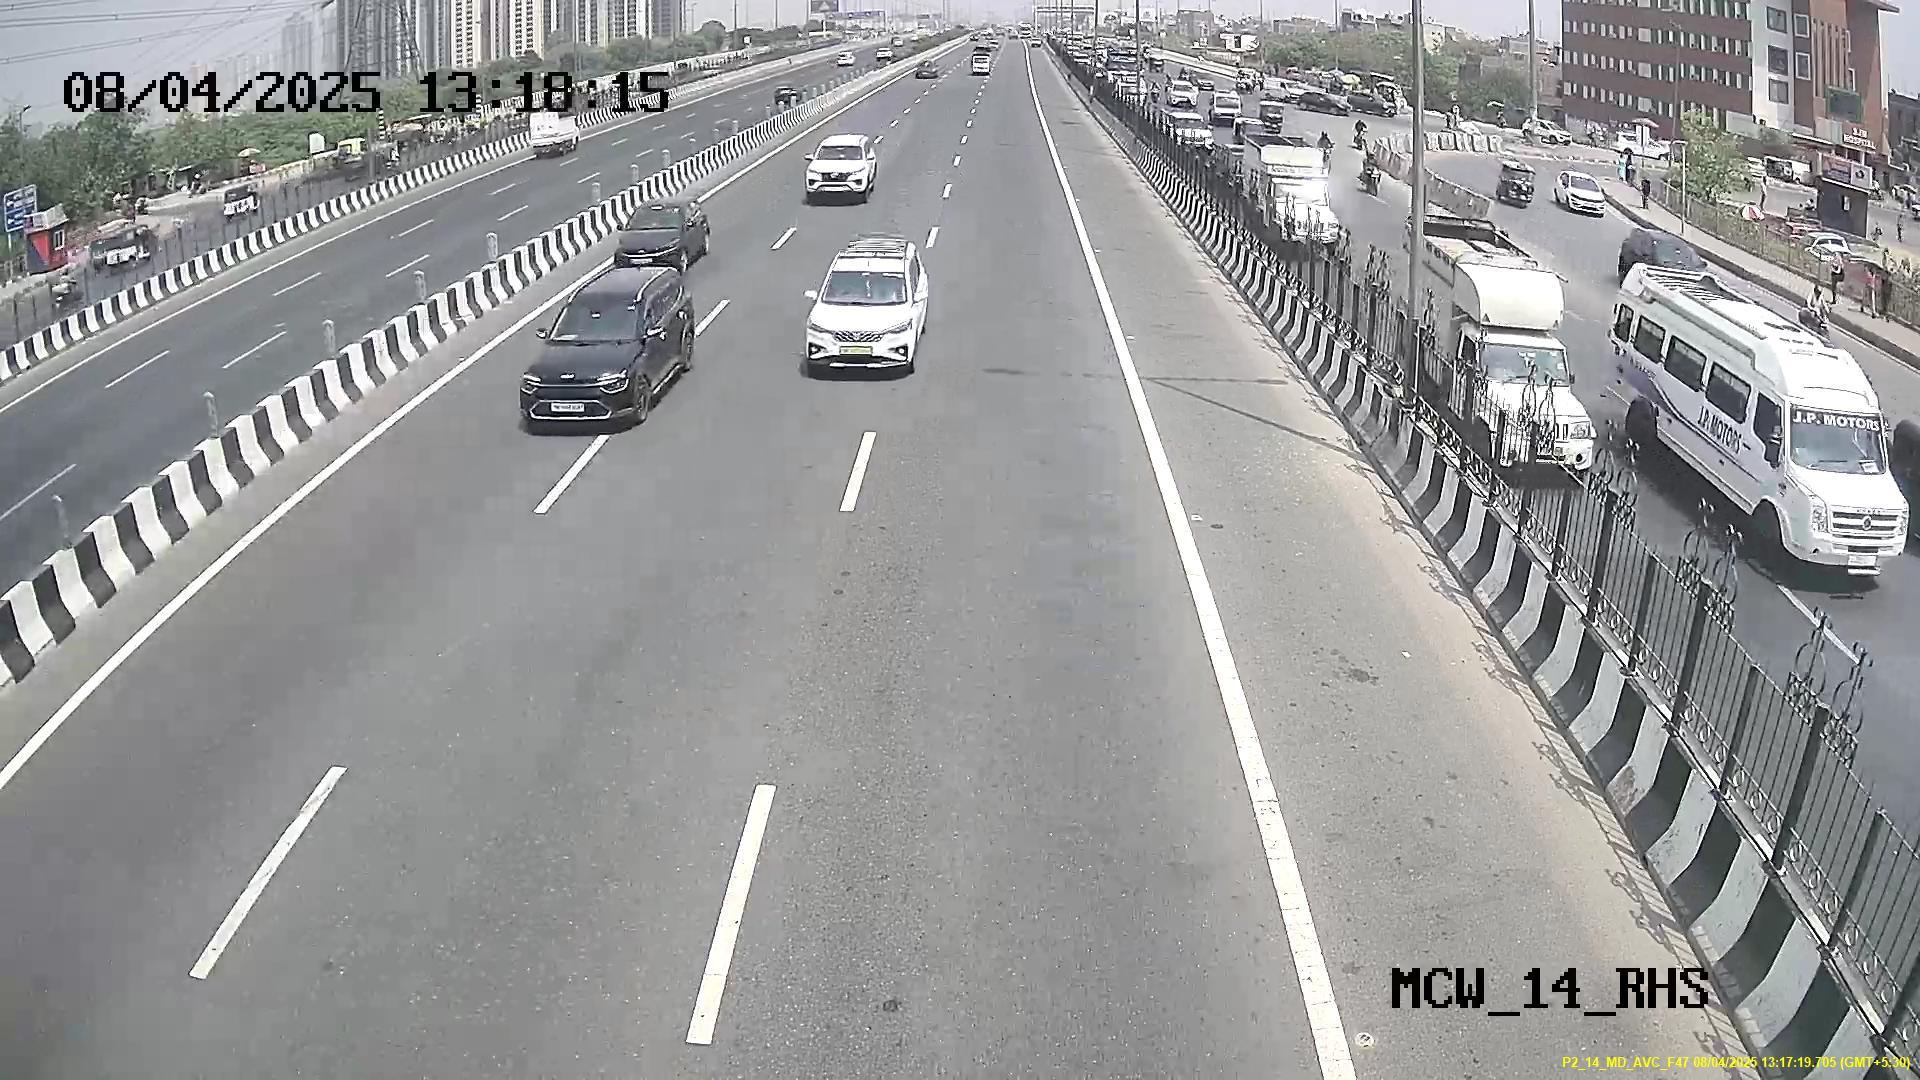car: (517, 278, 670, 438), (799, 253, 924, 373), (607, 189, 711, 269), (800, 137, 878, 210)
